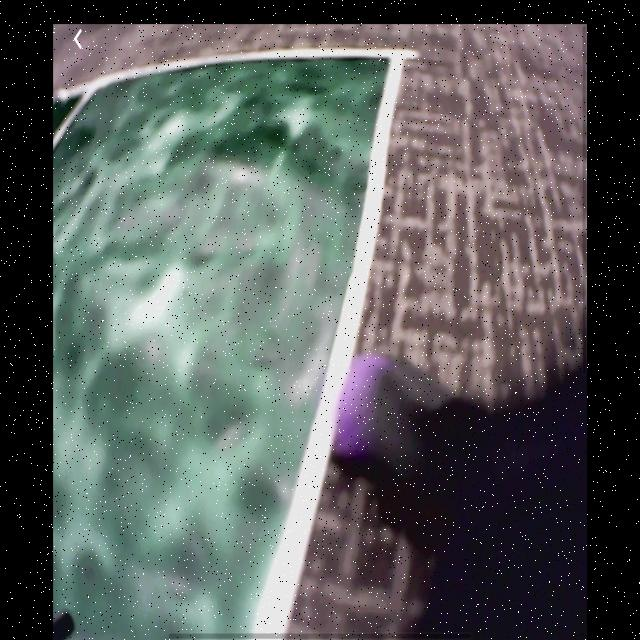ball: (341, 355, 407, 458)
